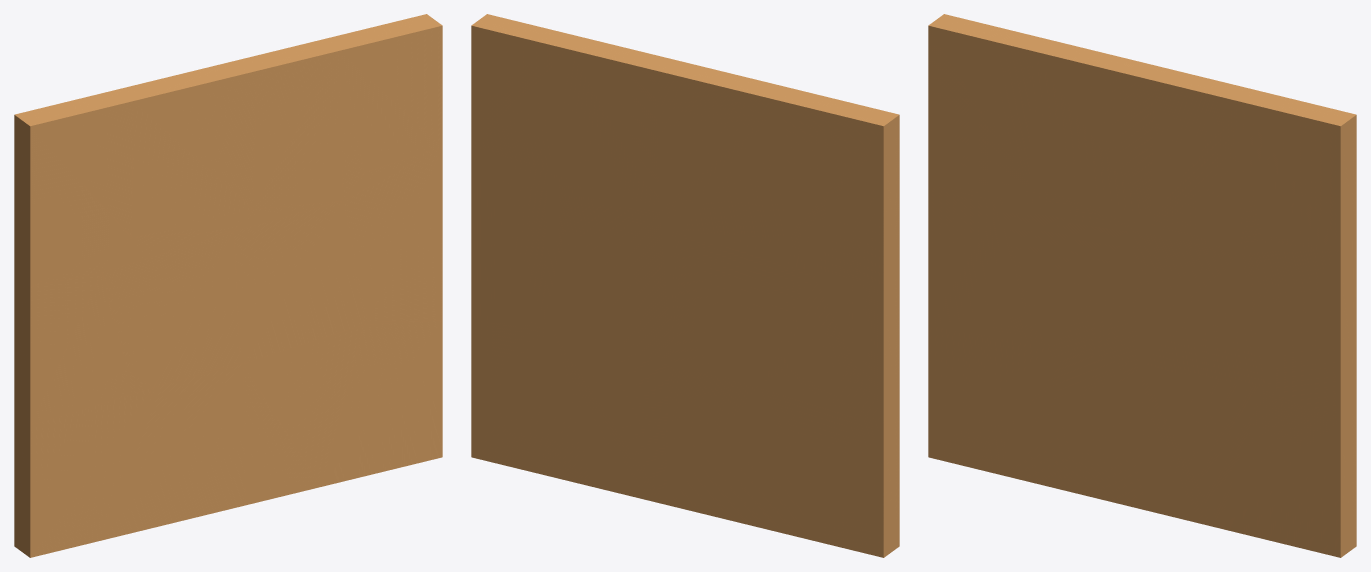
The model's file is Kit_Wood_Wall_Fractured.glb.
The picture shows the model from 3 angles, left to right: view 1: azimuth 30°, elevation 25°; view 2: azimuth 150°, elevation 25°; view 3: azimuth 330°, elevation 25°; orthographic projection.
Parts seen in each view (by area): view 1: Kit_Wood_Wall_frag_03, Kit_Wood_Wall_frag_06, Kit_Wood_Wall_frag_05, Kit_Wood_Wall_frag_01, Kit_Wood_Wall_frag_04, Kit_Wood_Wall_frag_08, Kit_Wood_Wall_frag_09, Kit_Wood_Wall_frag_10, Kit_Wood_Wall_frag_07, Kit_Wood_Wall_frag_11, Kit_Wood_Wall_frag_12, Kit_Wood_Wall_frag_02; view 2: Kit_Wood_Wall_frag_06, Kit_Wood_Wall_frag_03, Kit_Wood_Wall_frag_01, Kit_Wood_Wall_frag_05, Kit_Wood_Wall_frag_04, Kit_Wood_Wall_frag_08, Kit_Wood_Wall_frag_09, Kit_Wood_Wall_frag_10, Kit_Wood_Wall_frag_11, Kit_Wood_Wall_frag_07, Kit_Wood_Wall_frag_12, Kit_Wood_Wall_frag_02; view 3: Kit_Wood_Wall_frag_06, Kit_Wood_Wall_frag_03, Kit_Wood_Wall_frag_05, Kit_Wood_Wall_frag_10, Kit_Wood_Wall_frag_11, Kit_Wood_Wall_frag_04, Kit_Wood_Wall_frag_08, Kit_Wood_Wall_frag_09, Kit_Wood_Wall_frag_12, Kit_Wood_Wall_frag_01, Kit_Wood_Wall_frag_07, Kit_Wood_Wall_frag_02.
Boxes of the visible parts, left/top/right/bottom form: Kit_Wood_Wall_frag_03: left=14, top=90, right=133, bottom=286; Kit_Wood_Wall_frag_06: left=116, top=59, right=256, bottom=237; Kit_Wood_Wall_frag_05: left=102, top=231, right=240, bottom=387; Kit_Wood_Wall_frag_01: left=14, top=369, right=153, bottom=557; Kit_Wood_Wall_frag_04: left=99, top=362, right=245, bottom=540; Kit_Wood_Wall_frag_08: left=233, top=200, right=367, bottom=363; Kit_Wood_Wall_frag_09: left=242, top=38, right=364, bottom=209; Kit_Wood_Wall_frag_10: left=321, top=320, right=442, bottom=486; Kit_Wood_Wall_frag_07: left=243, top=325, right=363, bottom=505; Kit_Wood_Wall_frag_11: left=343, top=147, right=442, bottom=321; Kit_Wood_Wall_frag_12: left=326, top=14, right=442, bottom=172; Kit_Wood_Wall_frag_02: left=14, top=272, right=126, bottom=425; Kit_Wood_Wall_frag_06: left=656, top=59, right=795, bottom=238; Kit_Wood_Wall_frag_03: left=782, top=89, right=899, bottom=286; Kit_Wood_Wall_frag_01: left=760, top=368, right=899, bottom=557; Kit_Wood_Wall_frag_05: left=673, top=232, right=812, bottom=386; Kit_Wood_Wall_frag_04: left=667, top=362, right=814, bottom=540; Kit_Wood_Wall_frag_08: left=545, top=201, right=680, bottom=364; Kit_Wood_Wall_frag_09: left=548, top=39, right=672, bottom=209; Kit_Wood_Wall_frag_10: left=471, top=320, right=593, bottom=486; Kit_Wood_Wall_frag_11: left=471, top=147, right=570, bottom=321; Kit_Wood_Wall_frag_07: left=551, top=326, right=669, bottom=504; Kit_Wood_Wall_frag_12: left=471, top=14, right=589, bottom=171; Kit_Wood_Wall_frag_02: left=788, top=272, right=899, bottom=422; Kit_Wood_Wall_frag_06: left=1030, top=38, right=1171, bottom=229; Kit_Wood_Wall_frag_03: left=928, top=14, right=1044, bottom=206; Kit_Wood_Wall_frag_05: left=1000, top=186, right=1138, bottom=363; Kit_Wood_Wall_frag_10: left=1219, top=386, right=1356, bottom=557; Kit_Wood_Wall_frag_11: left=1241, top=235, right=1356, bottom=420; Kit_Wood_Wall_frag_04: left=998, top=347, right=1143, bottom=509; Kit_Wood_Wall_frag_08: left=1131, top=217, right=1266, bottom=386; Kit_Wood_Wall_frag_09: left=1151, top=69, right=1262, bottom=252; Kit_Wood_Wall_frag_12: left=1238, top=90, right=1356, bottom=247; Kit_Wood_Wall_frag_01: left=928, top=315, right=1051, bottom=473; Kit_Wood_Wall_frag_07: left=1141, top=367, right=1261, bottom=528; Kit_Wood_Wall_frag_02: left=928, top=186, right=1024, bottom=324.
Size of what is drawn, in the model's own units: 3 by 3 by 0.2.
2 materials, 2 textured.
